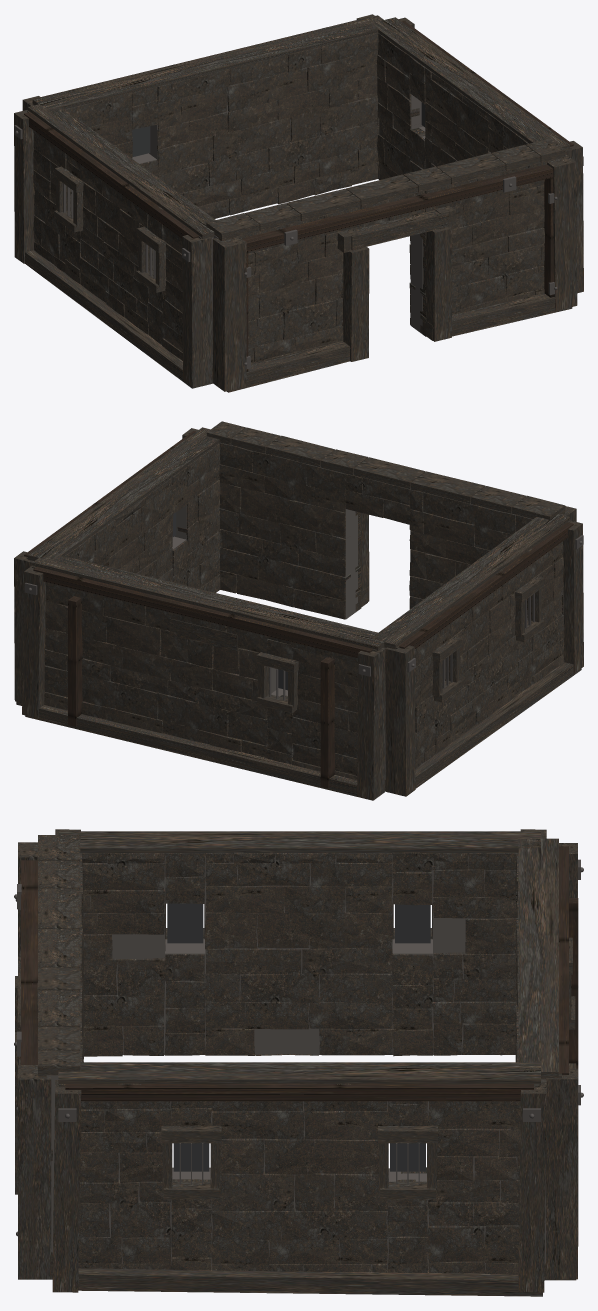
Rendered from full_workshop_preview.glb.
The picture shows the model from 3 angles, top to bottom: view 1: azimuth 30°, elevation 25°; view 2: azimuth 150°, elevation 25°; view 3: azimuth 270°, elevation 25°; orthographic projection. The views are drawn at different scales.
Parts seen in each view (by area): view 1: ASSET_REAR_REAR_roof_bedding_stone, ASSET_LoadBearingCornerPier_-1, ASSET_LEFT_LEFT_roof_bedding_stone, ASSET_RIGHT_RIGHT_roof_bedding_stone, ASSET_TimberTopBrace, ASSET_LEFT_LEFT_load_corner_1, ASSET_LoadBearingCornerPier_1, ASSET_LEFT_LEFT_continuous_plinth, ASSET_LoadBearingDoorPier_1, ASSET_LoadBearingDoorPier_-1, ASSET_LEFT_LEFT_load_corner_-1, ASSET_LEFT_LEFT_wall_plate (+90 smaller); view 2: ASSET_REAR_REAR_roof_bedding_stone, ASSET_REAR_REAR_continuous_plinth, ASSET_LEFT_LEFT_roof_bedding_stone, ASSET_RIGHT_RIGHT_roof_bedding_stone, ASSET_REAR_REAR_wall_plate, ASSET_LEFT_LEFT_load_corner_-1, ASSET_REAR_REAR_load_corner_1, ASSET_LEFT_LEFT_continuous_plinth, ASSET_REAR_REAR_load_corner_-1, ASSET_LEFT_LEFT_load_corner_1, ASSET_LEFT_LEFT_wall_plate, ASSET_REAR_REAR_oak_utility_pier_1 (+101 smaller); view 3: ASSET_RIGHT_RIGHT_roof_bedding_stone, ASSET_LEFT_LEFT_roof_bedding_stone, ASSET_RIGHT_RIGHT_continuous_plinth, ASSET_REAR_REAR_roof_bedding_stone, ASSET_RIGHT_RIGHT_wall_plate, ASSET_LoadBearingCornerPier_1, ASSET_REAR_REAR_load_corner_-1, ASSET_RIGHT_RIGHT_load_corner_-1, ASSET_RIGHT_RIGHT_load_corner_1, ASSET_TimberTopBrace, ASSET_LEFT_LEFT_solid_2_InteriorPBR_4_0, ASSET_RIGHT_RIGHT_solid_2_stone_3_0 (+120 smaller).
Part boxes in pixels (x1=…): ASSET_REAR_REAR_roof_bedding_stone: x1=32, y1=15, x2=388, y2=109; ASSET_LoadBearingCornerPier_-1: x1=212, y1=237, x2=246, y2=391; ASSET_LEFT_LEFT_roof_bedding_stone: x1=27, y1=104, x2=215, y2=238; ASSET_RIGHT_RIGHT_roof_bedding_stone: x1=370, y1=17, x2=569, y2=150; ASSET_TimberTopBrace: x1=242, y1=164, x2=553, y2=251; ASSET_LEFT_LEFT_load_corner_1: x1=182, y1=235, x2=212, y2=386; ASSET_LoadBearingCornerPier_1: x1=547, y1=154, x2=577, y2=311; ASSET_LEFT_LEFT_continuous_plinth: x1=25, y1=250, x2=212, y2=388; ASSET_LoadBearingDoorPier_1: x1=423, y1=227, x2=452, y2=341; ASSET_LoadBearingDoorPier_-1: x1=342, y1=247, x2=369, y2=361; ASSET_LEFT_LEFT_load_corner_-1: x1=14, y1=110, x2=34, y2=263; ASSET_LEFT_LEFT_wall_plate: x1=24, y1=112, x2=199, y2=238; ASSET_REAR_REAR_roof_bedding_stone: x1=32, y1=552, x2=391, y2=651; ASSET_REAR_REAR_continuous_plinth: x1=25, y1=705, x2=385, y2=800; ASSET_LEFT_LEFT_roof_bedding_stone: x1=371, y1=514, x2=569, y2=649; ASSET_RIGHT_RIGHT_roof_bedding_stone: x1=27, y1=427, x2=219, y2=561; ASSET_REAR_REAR_wall_plate: x1=33, y1=567, x2=372, y2=657; ASSET_LEFT_LEFT_load_corner_-1: x1=385, y1=645, x2=415, y2=796; ASSET_REAR_REAR_load_corner_1: x1=357, y1=648, x2=385, y2=800; ASSET_LEFT_LEFT_continuous_plinth: x1=385, y1=662, x2=581, y2=791; ASSET_REAR_REAR_load_corner_-1: x1=22, y1=565, x2=45, y2=718; ASSET_LEFT_LEFT_load_corner_1: x1=563, y1=520, x2=583, y2=673; ASSET_LEFT_LEFT_wall_plate: x1=398, y1=522, x2=573, y2=649; ASSET_REAR_REAR_oak_utility_pier_1: x1=320, y1=657, x2=334, y2=788; ASSET_RIGHT_RIGHT_roof_bedding_stone: x1=58, y1=1062, x2=540, y2=1085; ASSET_LEFT_LEFT_roof_bedding_stone: x1=58, y1=831, x2=540, y2=855; ASSET_RIGHT_RIGHT_continuous_plinth: x1=78, y1=1266, x2=542, y2=1296; ASSET_REAR_REAR_roof_bedding_stone: x1=518, y1=838, x2=558, y2=1079; ASSET_RIGHT_RIGHT_wall_plate: x1=65, y1=1084, x2=533, y2=1101; ASSET_LoadBearingCornerPier_1: x1=18, y1=1065, x2=51, y2=1279; ASSET_REAR_REAR_load_corner_-1: x1=546, y1=1068, x2=577, y2=1279; ASSET_RIGHT_RIGHT_load_corner_-1: x1=52, y1=1080, x2=81, y2=1292; ASSET_RIGHT_RIGHT_load_corner_1: x1=518, y1=1080, x2=546, y2=1292; ASSET_TimberTopBrace: x1=21, y1=860, x2=37, y2=1064; ASSET_LEFT_LEFT_solid_2_InteriorPBR_4_0: x1=309, y1=911, x2=392, y2=949; ASSET_RIGHT_RIGHT_solid_2_stone_3_0: x1=211, y1=1171, x2=294, y2=1211.
Bounding box in the file's own units: 9.13 × 3.4 × 8.16.
7 materials, 4 textured.
